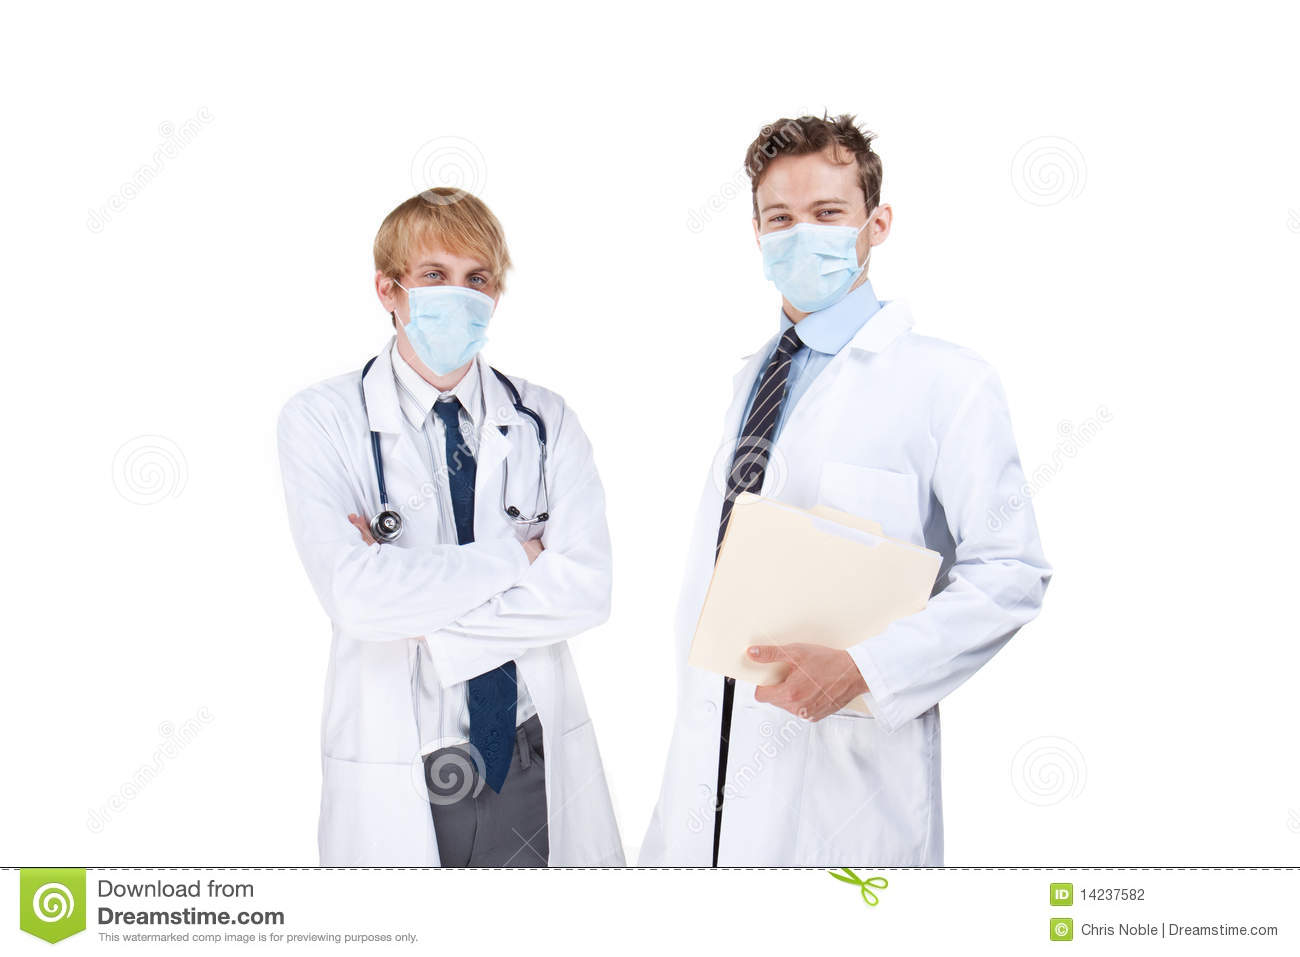mask: (404, 282, 504, 379), (751, 235, 872, 314)
